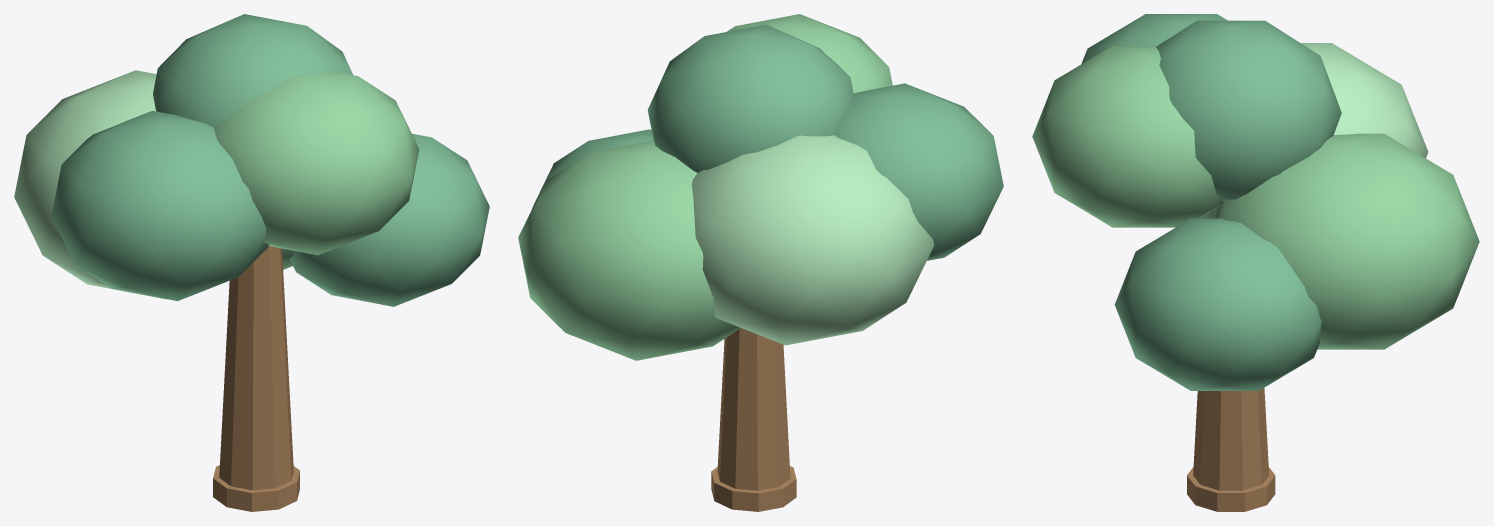
File: tree_b.glb
3 renders of one model, left to right at view 1: azimuth 30°, elevation 25°; view 2: azimuth 150°, elevation 25°; view 3: azimuth 270°, elevation 25°, orthographic. The views are drawn at different scales.
Visible parts, largest first — view 1: tree_b; view 2: tree_b; view 3: tree_b.
Boxes of the visible parts, x1,y1,x2,y2 form: tree_b: [14, 14, 489, 511]; tree_b: [518, 14, 1003, 511]; tree_b: [1032, 14, 1479, 511].
Bounding box in the file's own units: 3.76 × 3.95 × 3.44.
